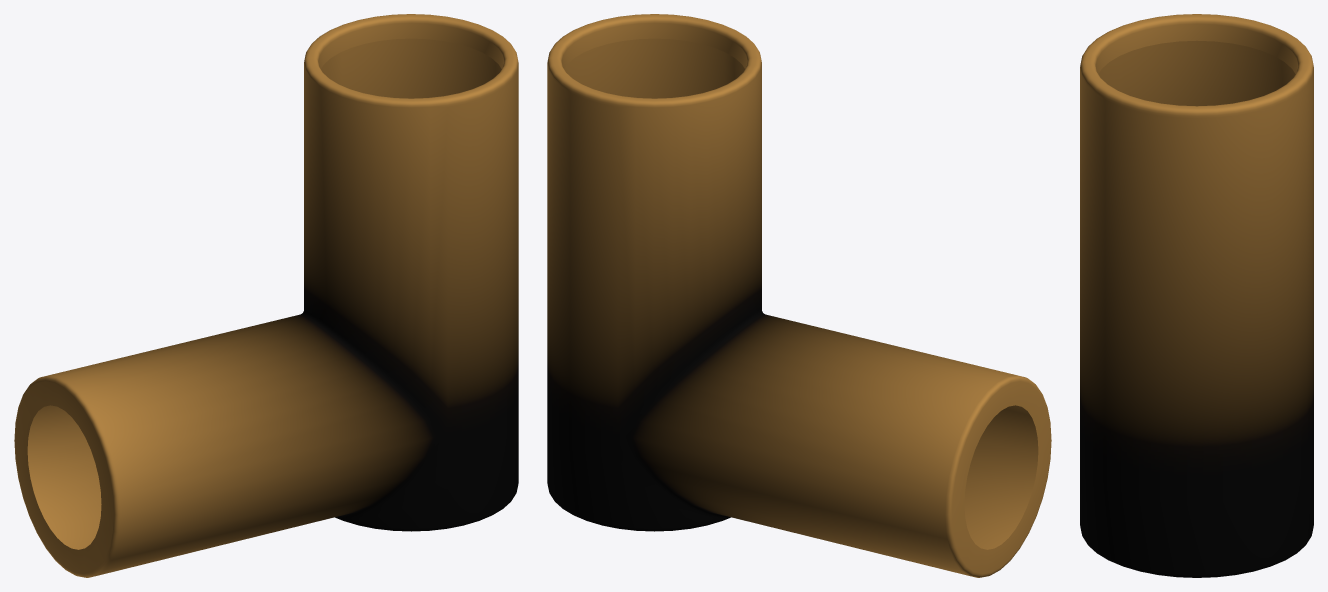
File: Pipe_Corner_Hard.fbx
3 renders of one model, left to right at view 1: azimuth 30°, elevation 25°; view 2: azimuth 150°, elevation 25°; view 3: azimuth 270°, elevation 25°, orthographic. The views are drawn at different scales.
Parts seen in each view (by area): view 1: Corner_Hard; view 2: Corner_Hard; view 3: Corner_Hard.
Part boxes in pixels (<box>): Corner_Hard: <box>14,14,518,577</box>; Corner_Hard: <box>547,14,1051,577</box>; Corner_Hard: <box>1080,14,1313,577</box>.
Bounding box in the file's own units: 39.73 × 37.12 × 16.79.
